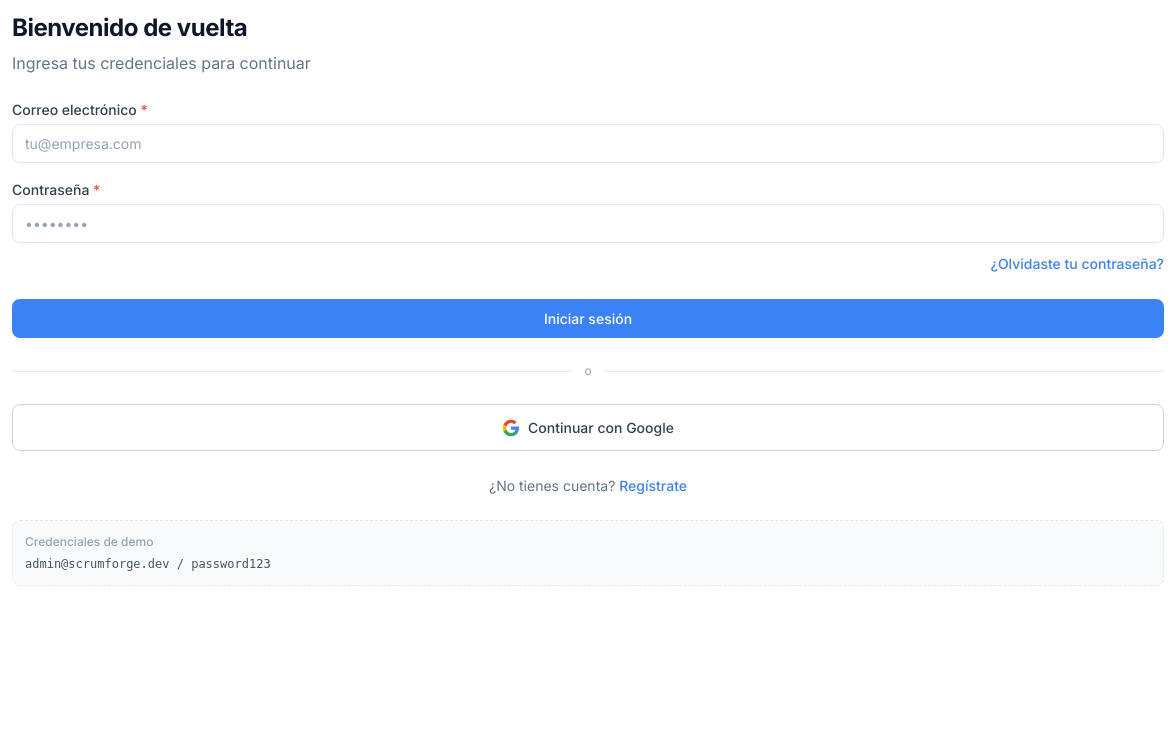
Test case: LoginForm › clears credential error when user edits the password
Type "user@test.com" into the field labelled "Correo electrónico *".
click(588, 144); type("user@test.com")  # box [12,124,1164,163]
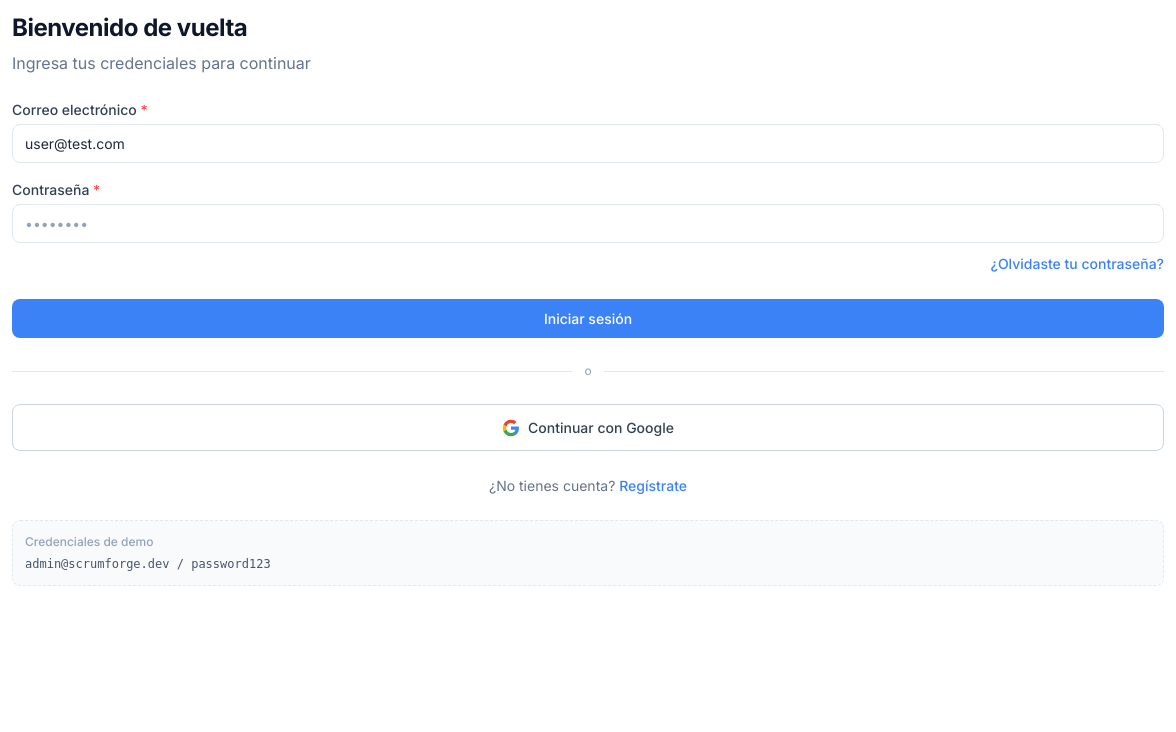
Type "wrongpass" into the password field labelled "Contraseña *".
click(588, 224); type("wrongpass")  # box [12,204,1164,243]
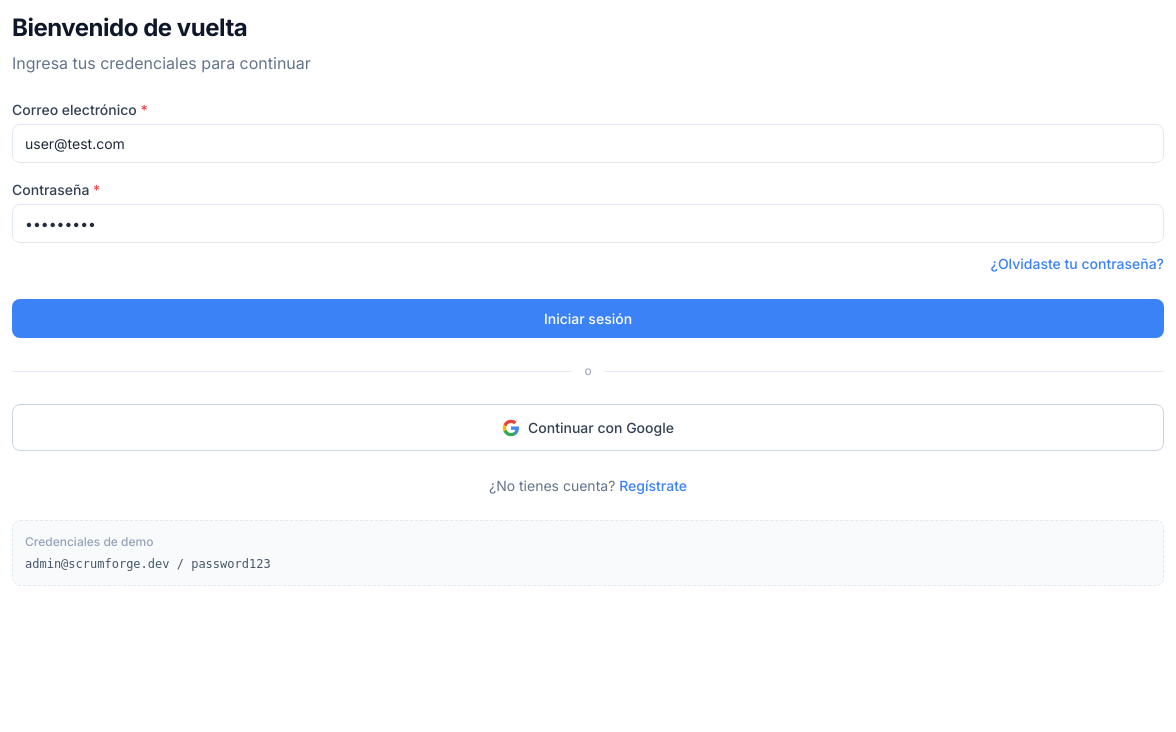
Click the button "Iniciar sesión".
click(588, 319)  # box [12,299,1164,338]
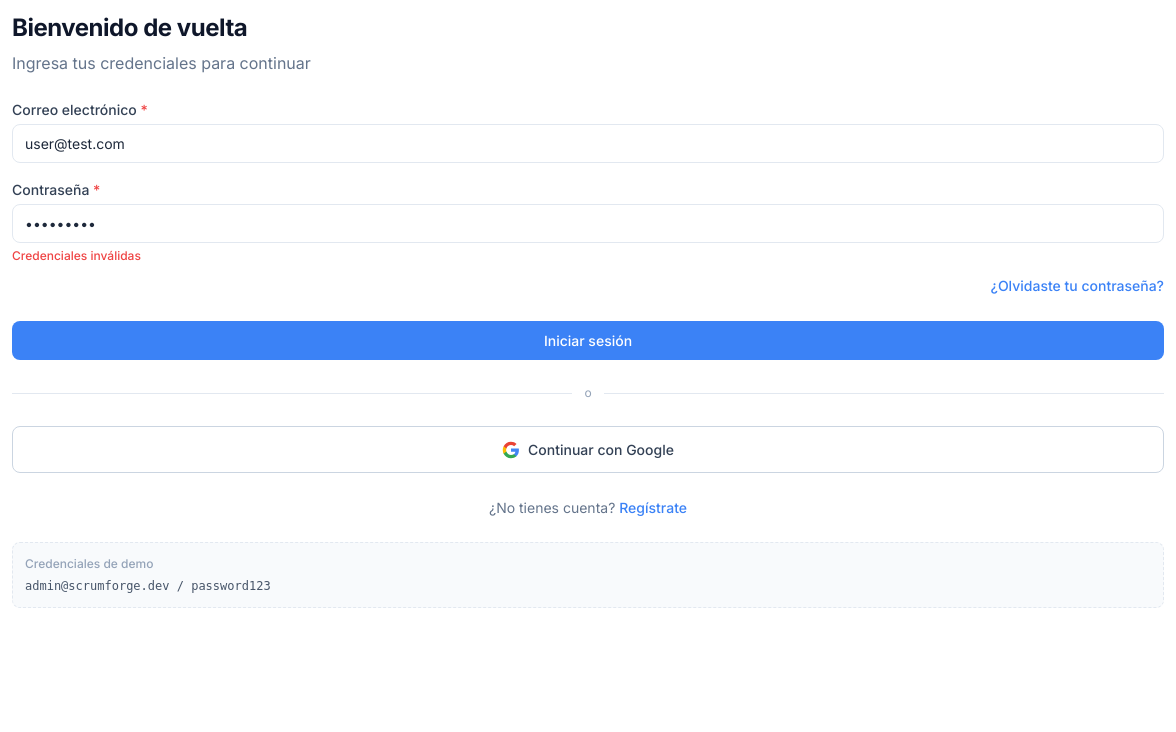
Expected: the text "Credenciales inválidas" is shown, [12,248,141,263]
Type "newpassword" into the password field labelled "Contraseña *".
click(588, 224); type("newpassword")  # box [12,204,1164,243]
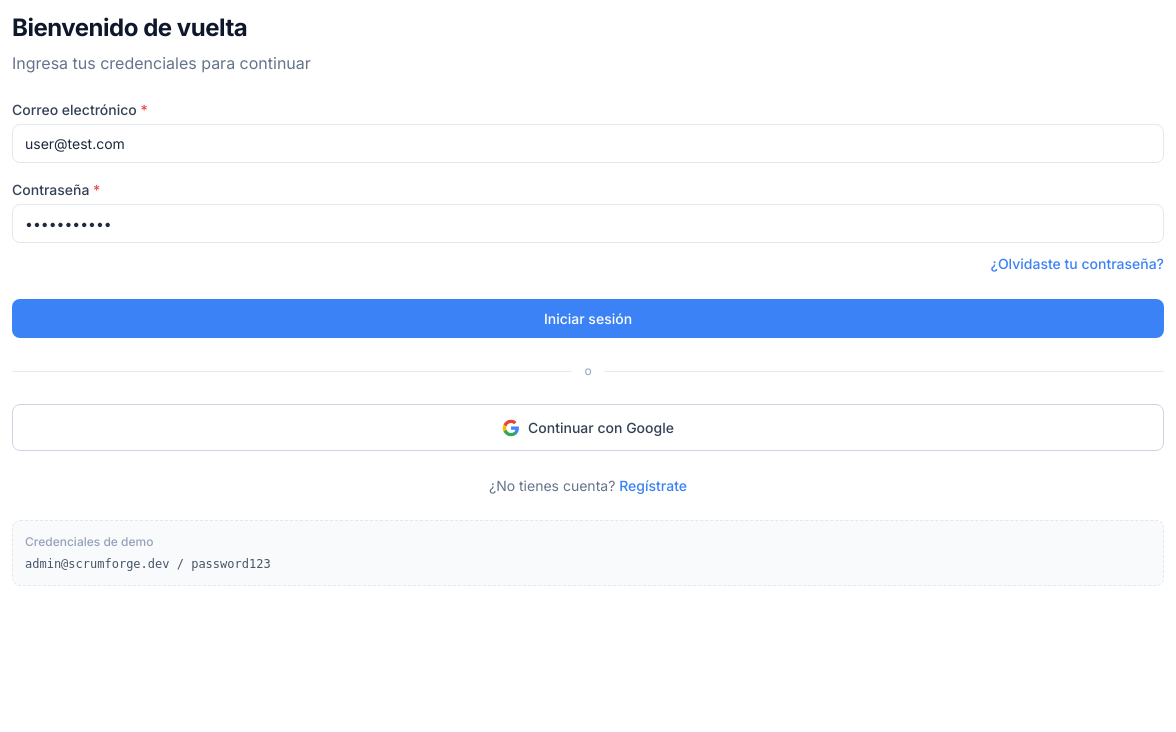
Expected: the text "Credenciales inválidas" is gone
